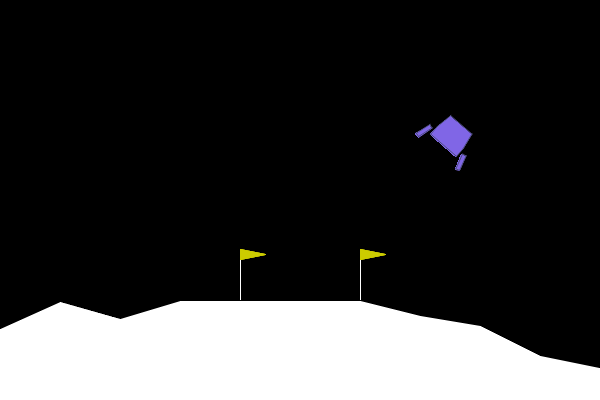lander: (413, 104, 485, 174)
